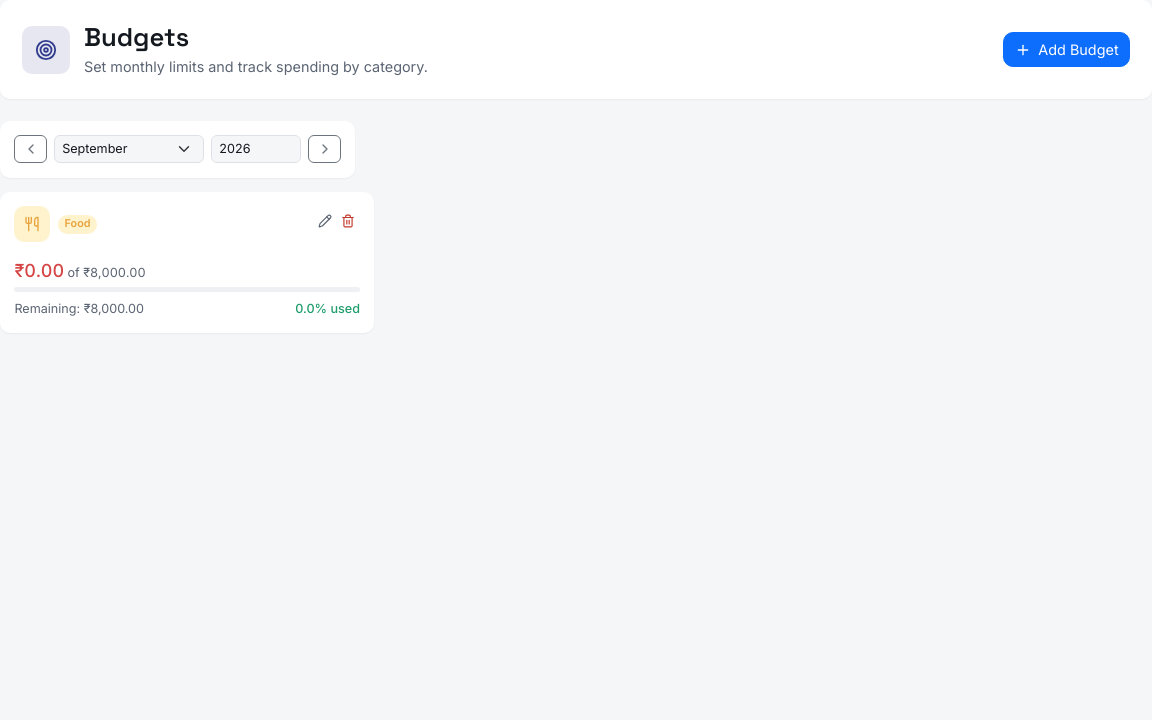
Budgets page › budget-edit threshold toast › shows the 90% toast when a budget edit itself pushes usage into the 90% tier
This screenshot has width=1152, height=720.
Click the button named "edit": (325, 220) [314,206,337,234]
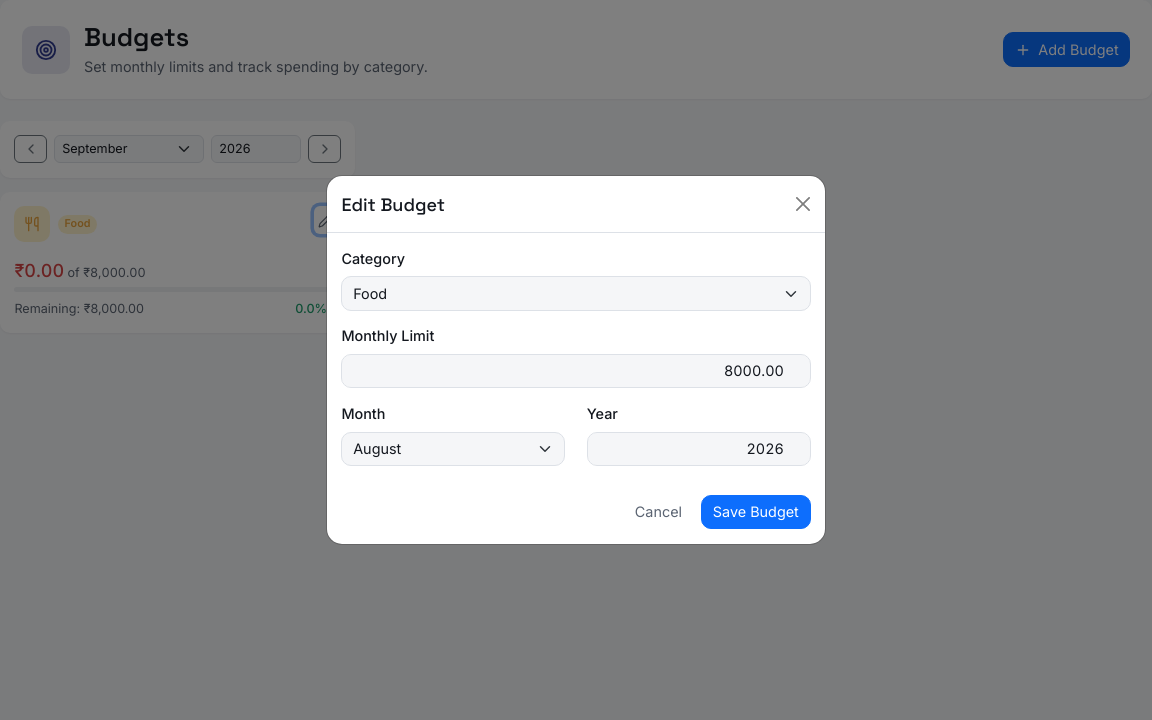
Replace the text in the number field labelled "Monthly Limit" with "8500": (576, 371) [341,354,811,388]
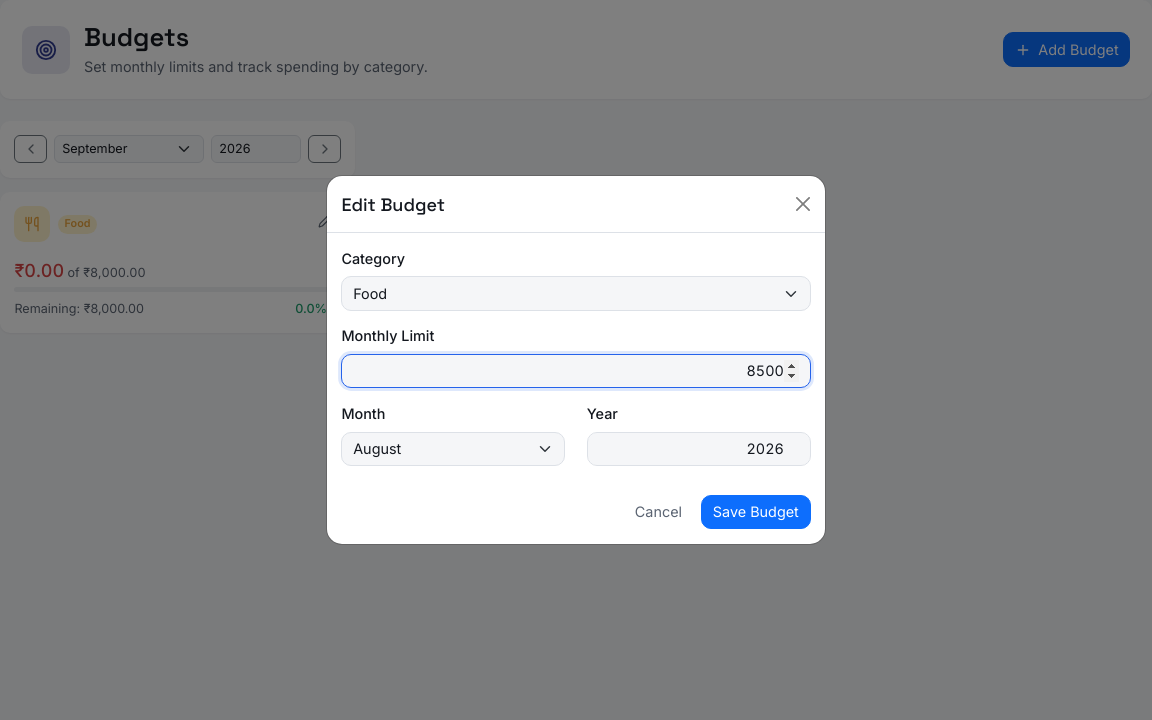
Click the button "Save Budget": (756, 512) [701,495,811,529]
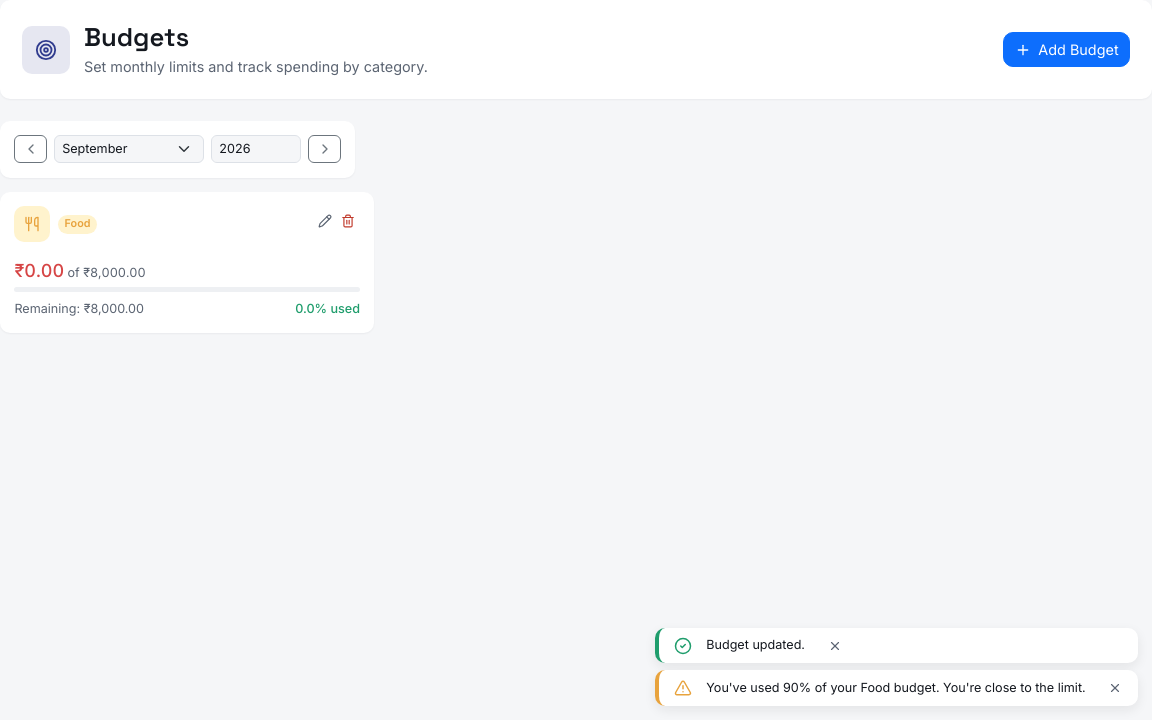
Expected: the text "You've used 90% of your Food budget. You're close to the limit." is shown, [706,678,1086,697]
